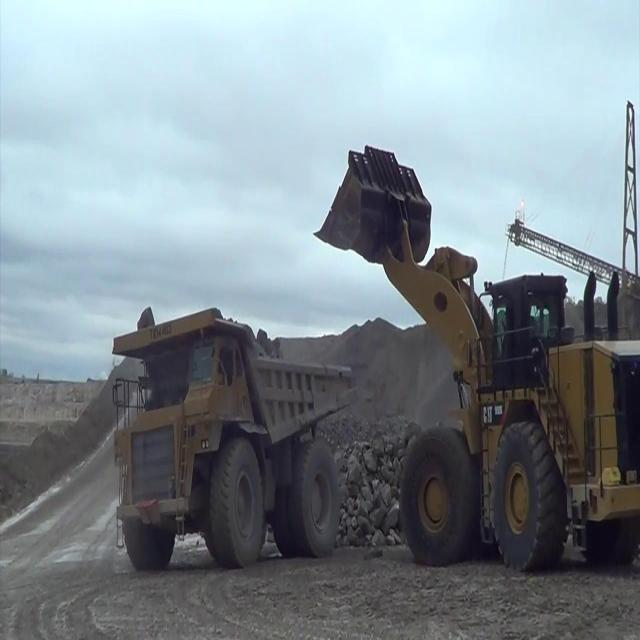buldozerpayloadergrader: (314, 142, 640, 574)
dump_truck: (109, 301, 355, 570)
